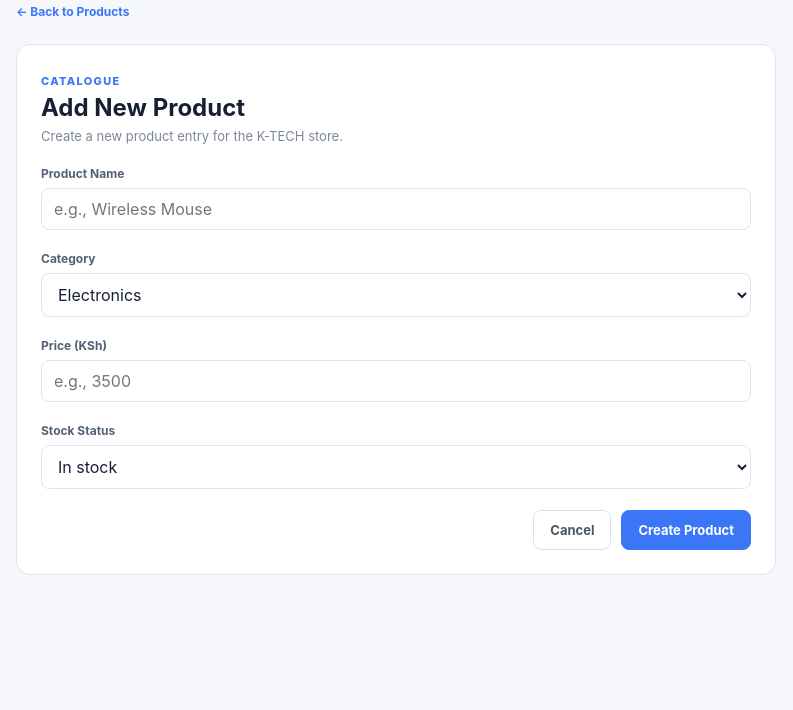
Test: AddProduct › shows validation errors and does not create an invalid product
Click the button "Create Product". click: [686, 530]
box: [622,510,751,550]
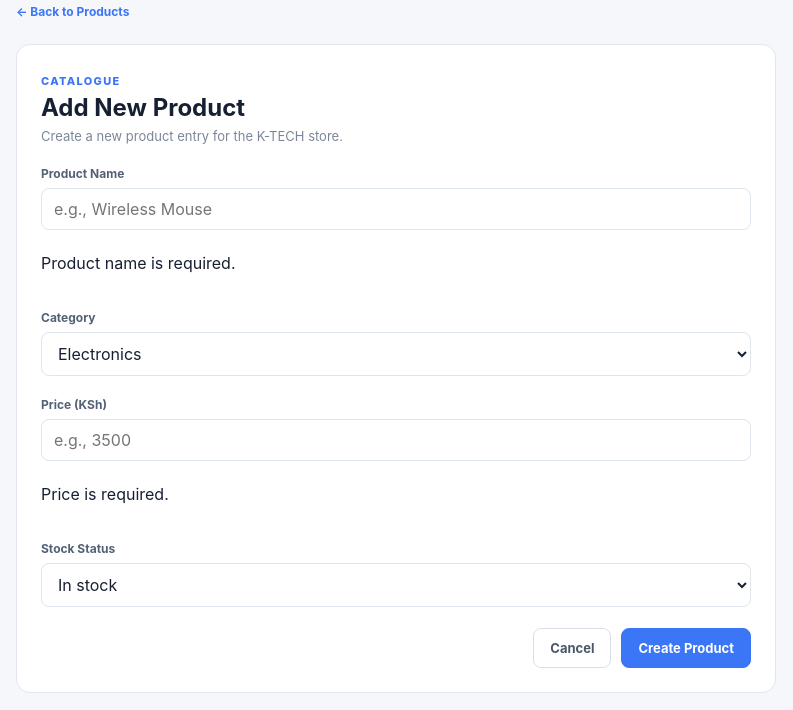
Expected: the text "Product name is required." is shown, [41,253,236,273]
Expected: the text "Price is required." is shown, [41,484,169,504]
